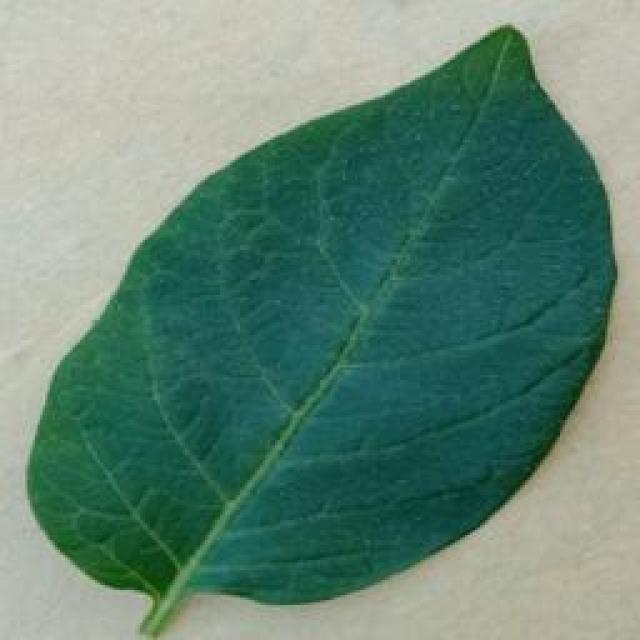Potato_Healthy: (29, 23, 608, 630)
